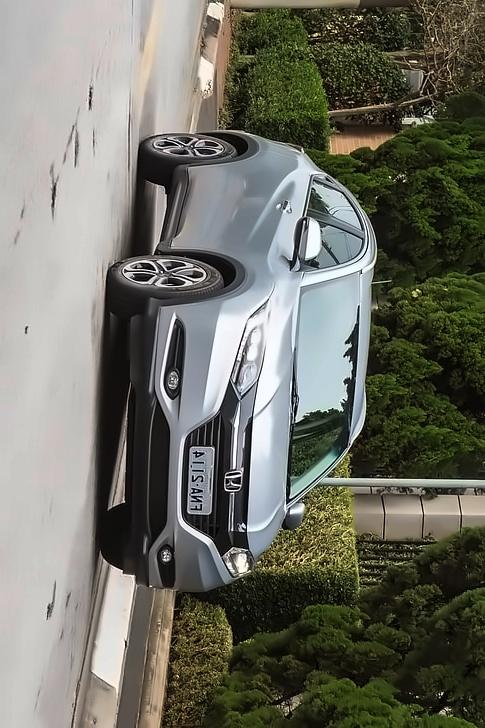Car hood: (244, 286, 292, 559)
Driver-s door - -F-R-: (167, 200, 370, 260)
Fender - -F-R-: (156, 246, 309, 317)
Fender - -R-R-: (230, 136, 306, 165)
Front bumper: (119, 292, 255, 592)
Headlight - -L-: (217, 541, 260, 586)
Headlight - -R-: (227, 293, 270, 403)
Passenger-s door - -R-R-: (176, 162, 364, 227)
Rear light - -R-: (280, 136, 311, 156)
Side bumper - -R-: (152, 156, 194, 260)
Side mirror - -L-: (279, 498, 315, 535)
Side mirror - -R-: (286, 210, 330, 274)
